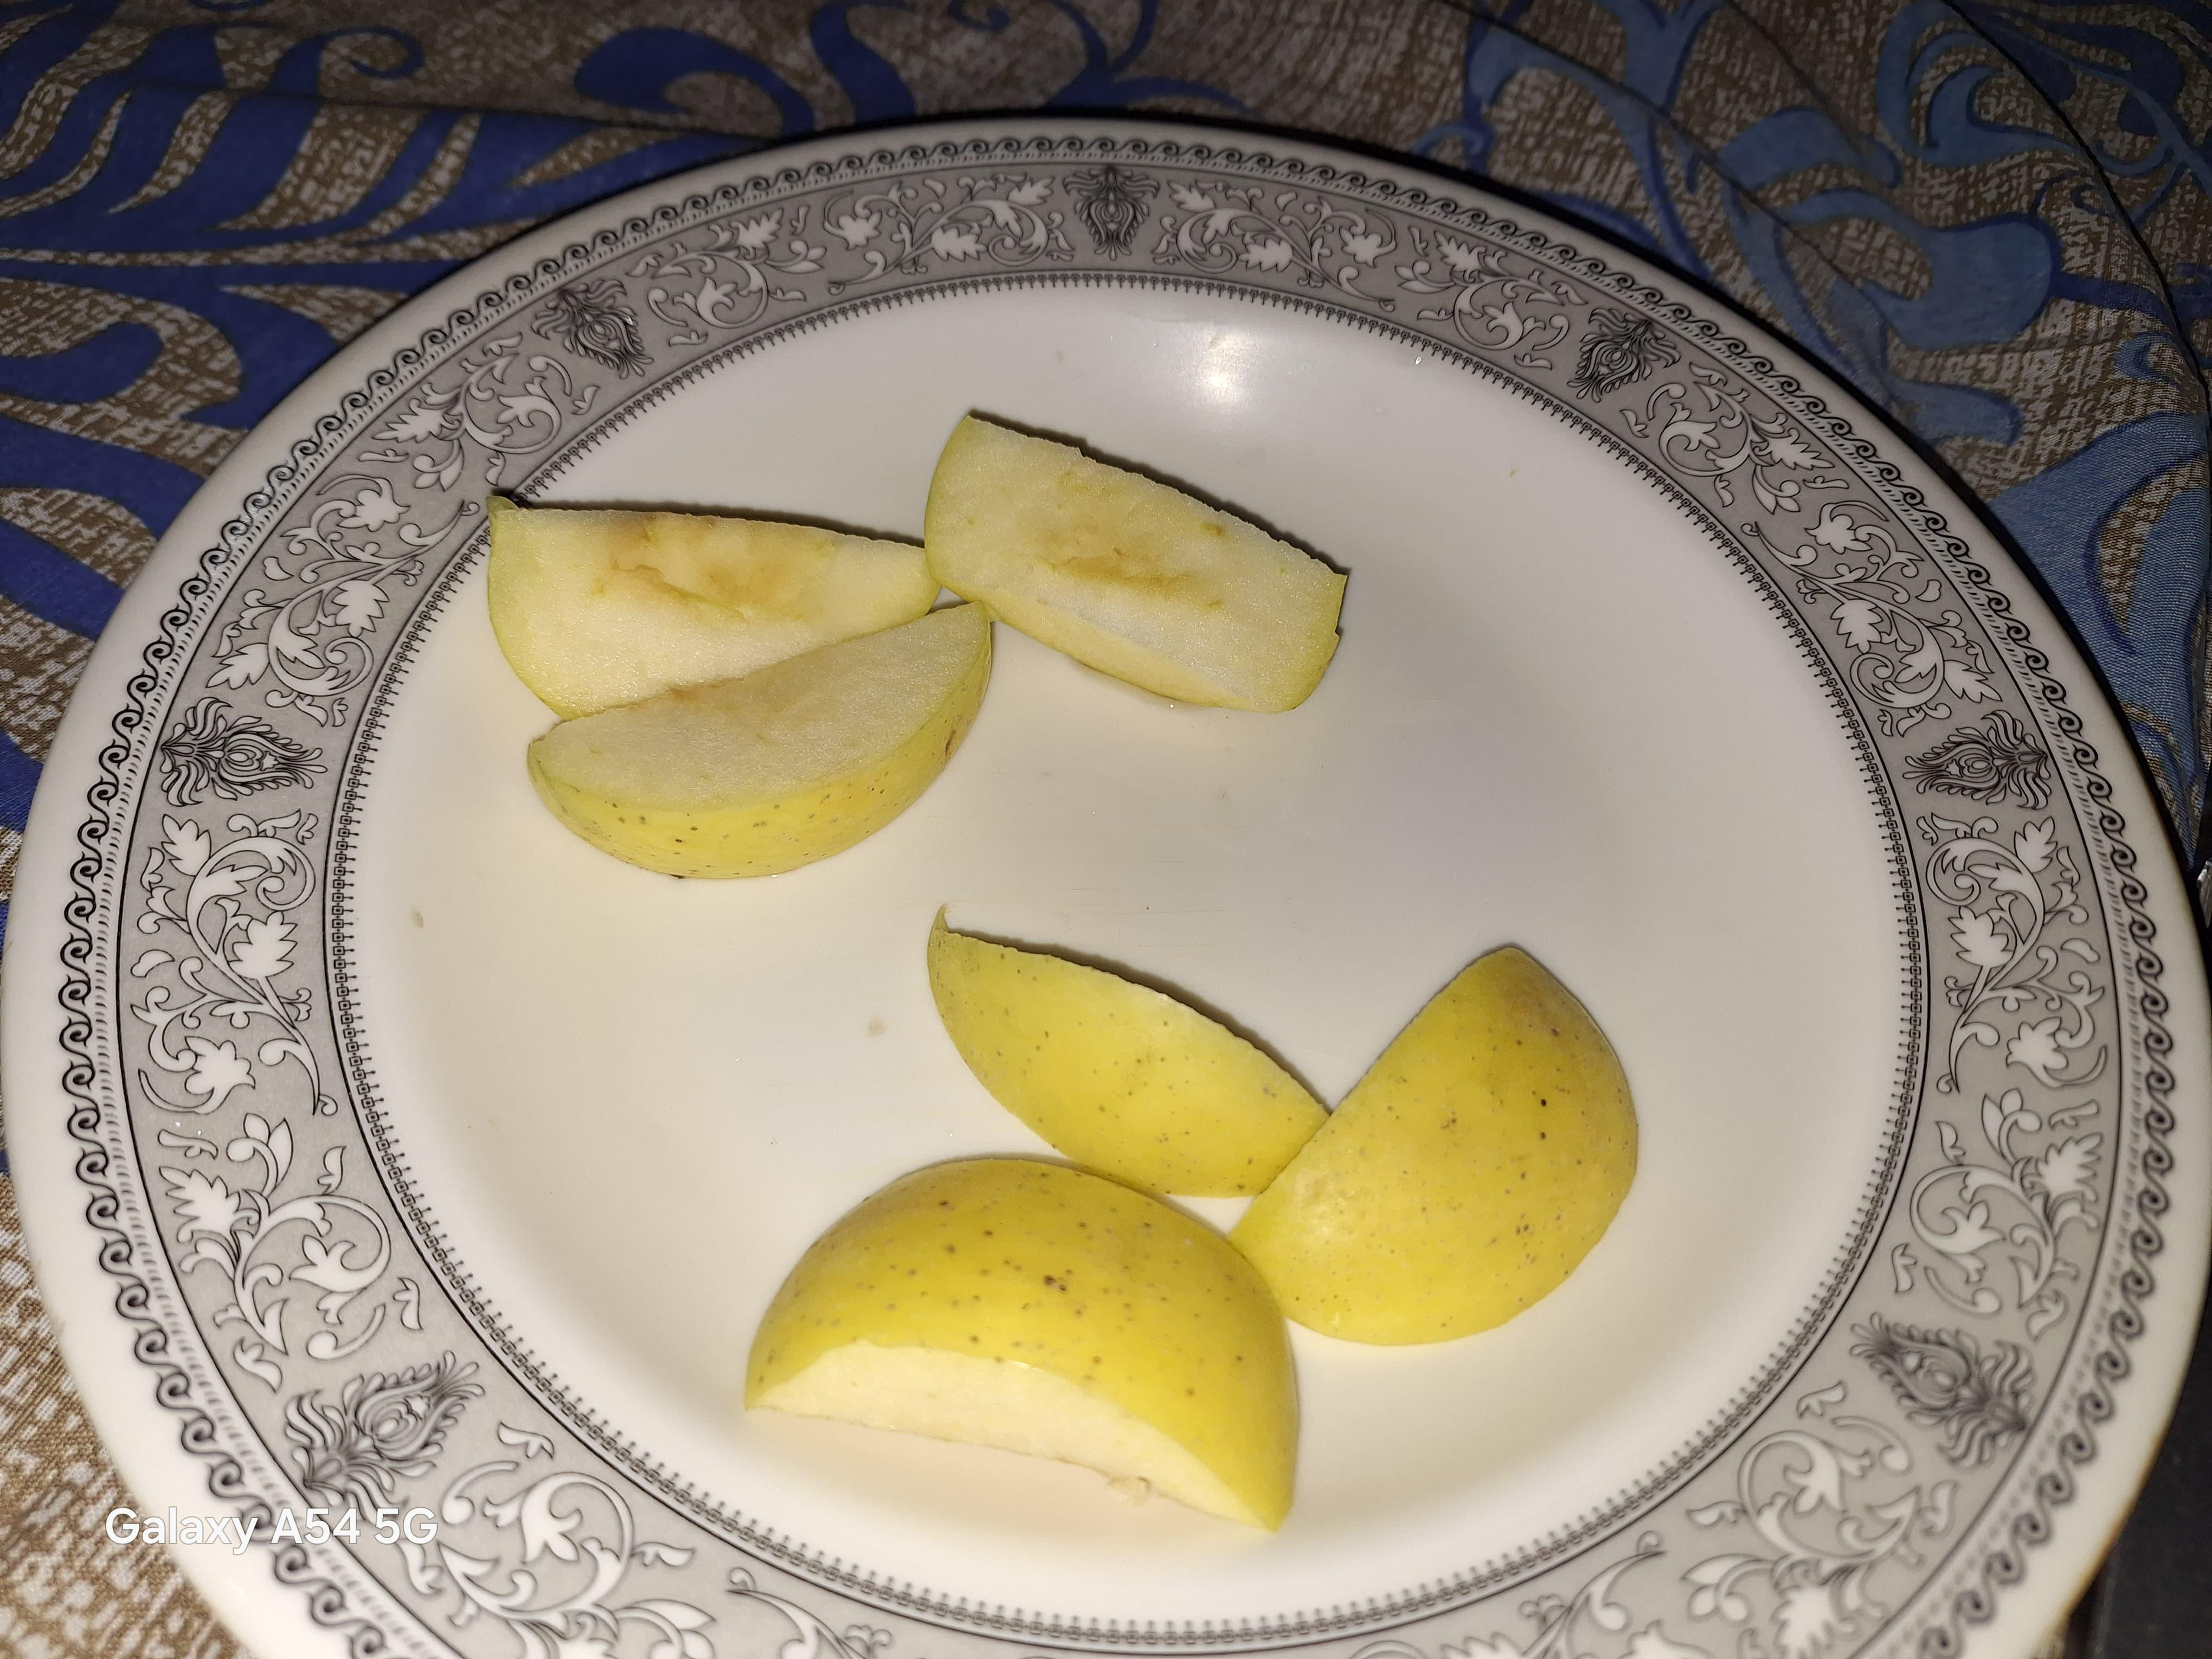non-mango: (444, 385, 1728, 1554)
